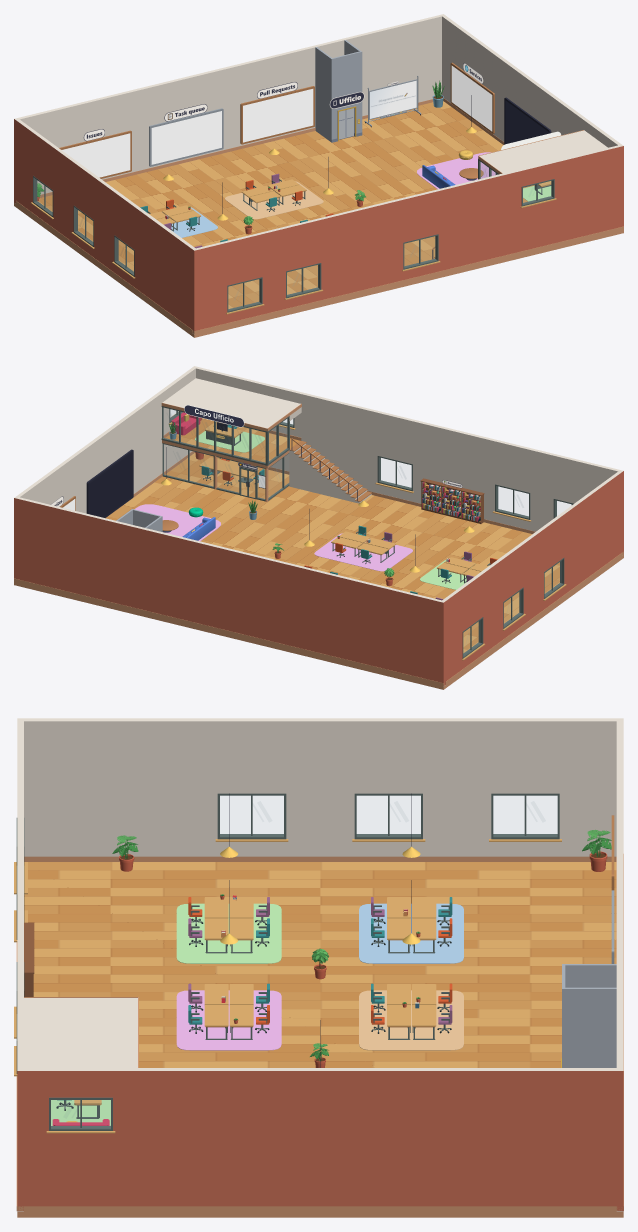
File: ufficio_base.glb
3 renders of one model, top to bottom at view 1: azimuth 30°, elevation 25°; view 2: azimuth 150°, elevation 25°; view 3: azimuth 270°, elevation 25°, orthographic. The views are drawn at different scales.
Parts seen in each view (by area): view 1: Pareti_finestre_porta_balcone, Collegamenti_ufficio_unico, elevator, Ala_0, Ufficio_del_capo_e_scala, superficie_pulls, superficie_queue, Tappeti, superficie_issues, superficie_services, superficie_lavagna_condivisa, Lavagne_operative (+7 smaller); view 2: Pareti_finestre_porta_balcone, Collegamenti_ufficio_unico, Ufficio_del_capo_e_scala, Ala_0, Tappeti, superficie_tv, bookshelf, Sala_riunioni_locale, Salotto, elevator, meeting, tv; view 3: Pareti_finestre_porta_balcone, Collegamenti_ufficio_unico, Tappeti, Ufficio_del_capo_e_scala, elevator, Ala_0, Parete_ex_uscita, Lampade, bookshelf.
Boxes of the visible parts, x1,y1,x2,y2 form: Pareti_finestre_porta_balcone: (14, 15, 623, 334); Collegamenti_ufficio_unico: (14, 101, 623, 337); elevator: (315, 40, 364, 142); Ala_0: (386, 14, 445, 105); Ufficio_del_capo_e_scala: (432, 130, 607, 259); superficie_pulls: (243, 89, 313, 142); superficie_queue: (151, 111, 221, 164); Tappeti: (166, 181, 323, 237); superficie_issues: (62, 133, 130, 177); superficie_services: (451, 65, 492, 131); superficie_lavagna_condivisa: (370, 80, 416, 118); Lavagne_operative: (83, 63, 483, 141); Pareti_finestre_porta_balcone: (16, 366, 623, 686); Collegamenti_ufficio_unico: (14, 453, 623, 689); Ufficio_del_capo_e_scala: (161, 378, 371, 503); Ala_0: (14, 496, 73, 595); Tappeti: (314, 533, 471, 589); superficie_tv: (89, 452, 132, 517); bookshelf: (420, 478, 484, 523); Sala_riunioni_locale: (162, 443, 289, 501); Salotto: (134, 504, 220, 541); elevator: (116, 509, 162, 531); meeting: (199, 457, 259, 483); tv: (86, 449, 133, 517); Pareti_finestre_porta_balcone: (14, 718, 623, 1211); Collegamenti_ufficio_unico: (17, 862, 623, 1217); Tappeti: (176, 903, 463, 1050); Ufficio_del_capo_e_scala: (24, 997, 138, 1125); elevator: (561, 964, 616, 1067); Ala_0: (616, 1023, 623, 1211); Parete_ex_uscita: (156, 812, 187, 856); Lampade: (220, 793, 420, 1067); bookshelf: (24, 922, 34, 996).
Bounding box in the file's own units: 36.88 × 7.1 × 26.76.
Materials: 84 (12 with a texture image).
